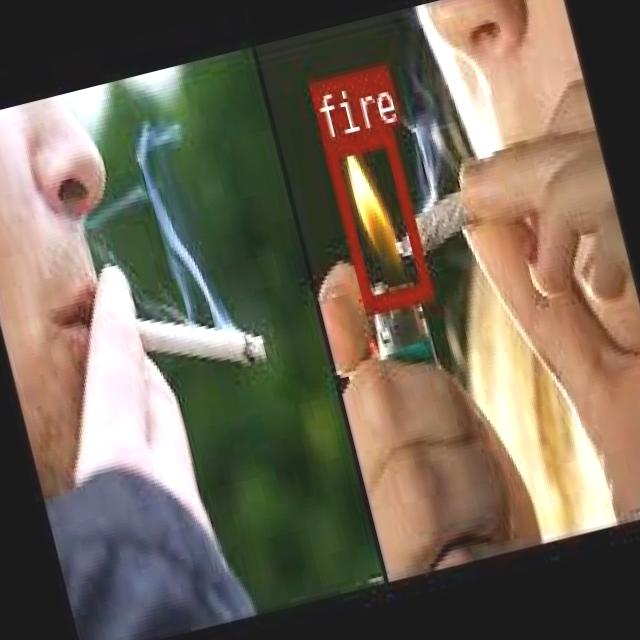fire: (322, 122, 432, 313)
